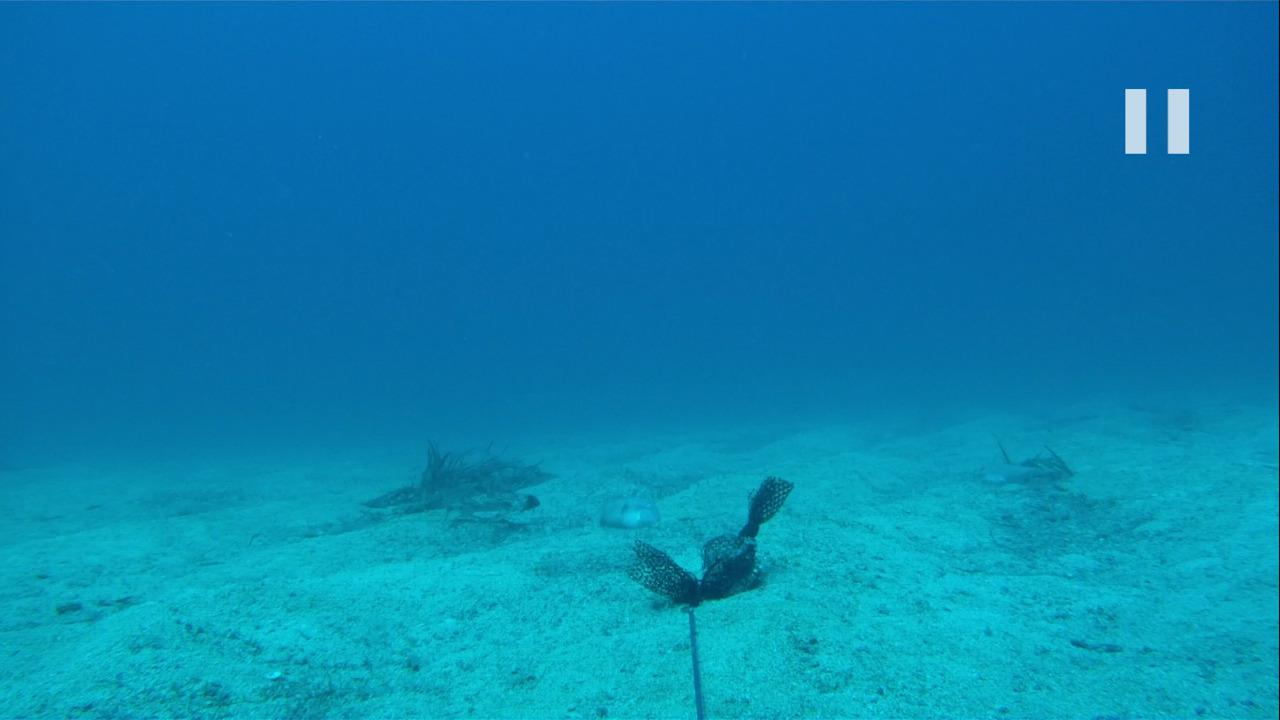dactylopterus: (391, 487, 542, 529)
raor: (597, 494, 660, 534)
